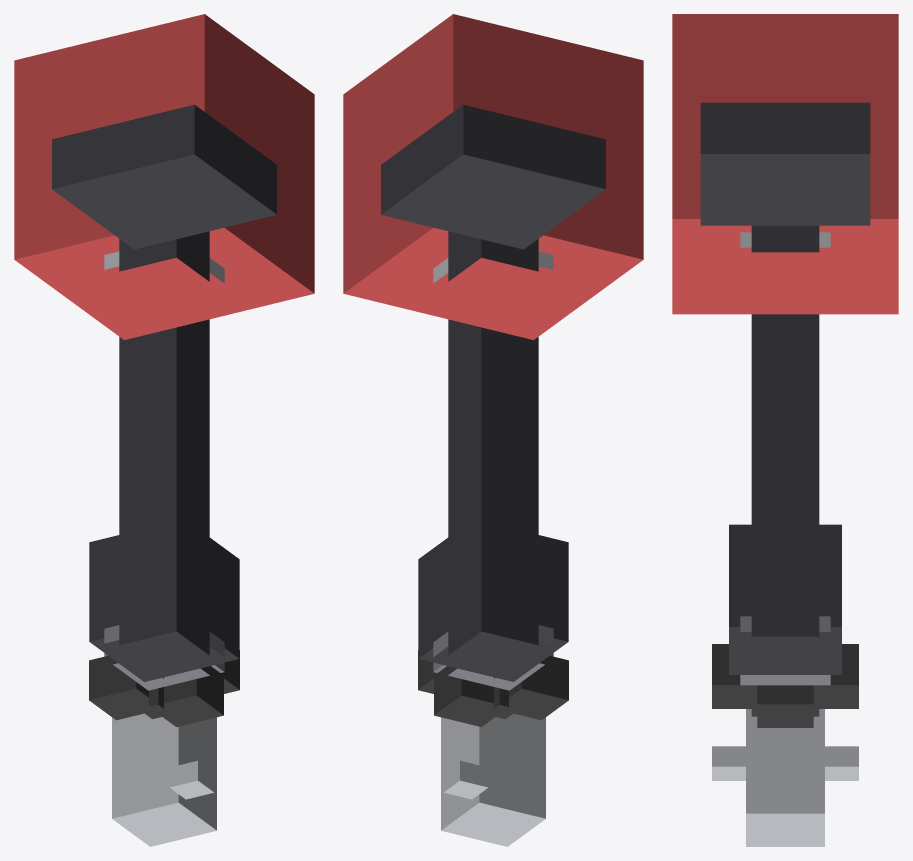
Rendered from stick.gltf.
The picture shows the model from 3 angles, left to right: view 1: azimuth 30°, elevation 25°; view 2: azimuth 150°, elevation 25°; view 3: azimuth 270°, elevation 25°; orthographic projection. The views are drawn at different scales.
Parts seen in each view (by area): view 1: stick; view 2: stick; view 3: stick.
Part boxes in pixels (box(x1,y1,x2,y2)): stick: box(14, 14, 314, 846); stick: box(343, 14, 643, 846); stick: box(672, 14, 898, 846).
Bounding box in the file's own units: 0.04 × 0.15 × 0.04.
